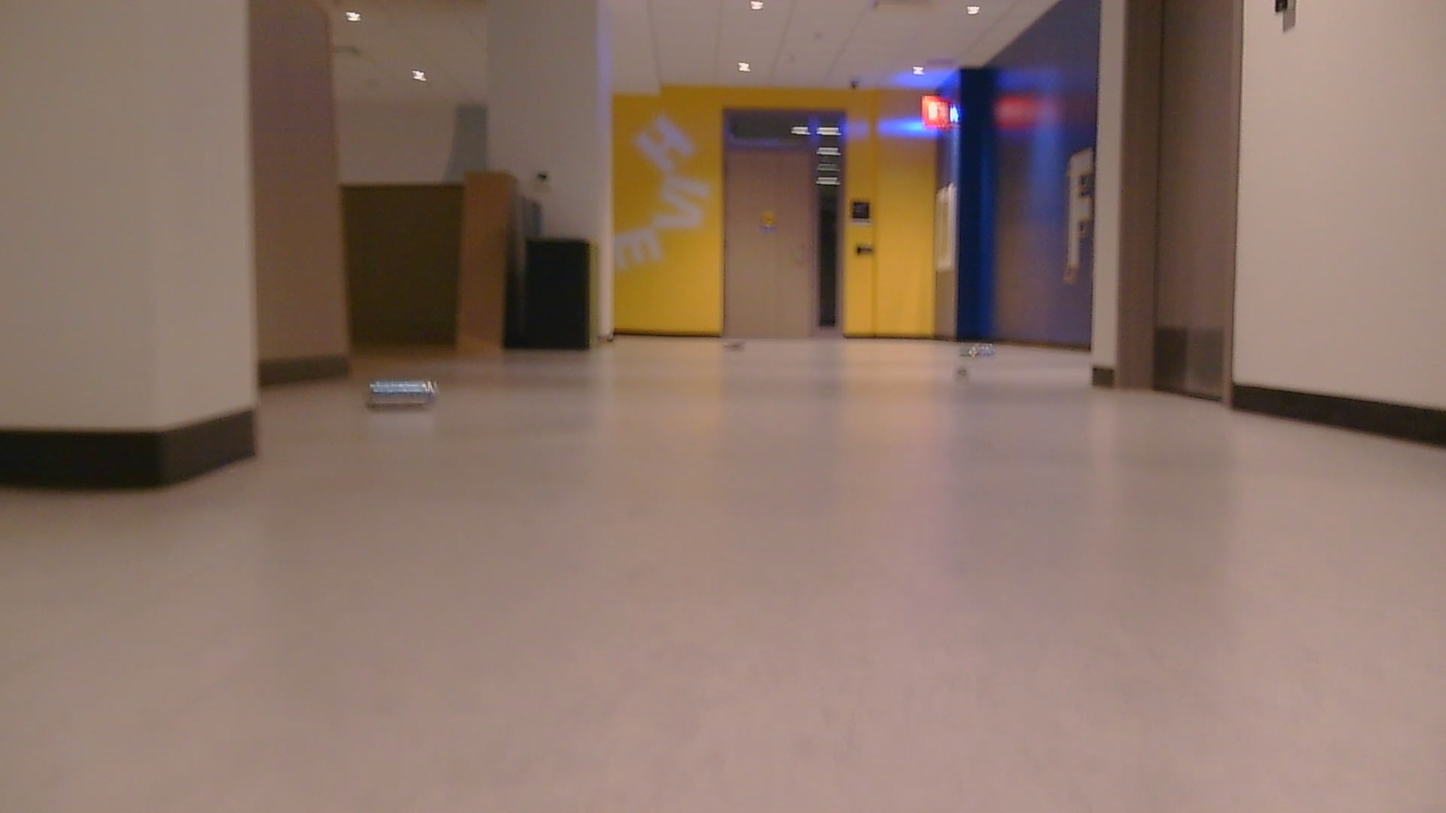can: (393, 397, 394, 398)
carton: (357, 376, 443, 410), (956, 340, 999, 357), (722, 337, 755, 351), (948, 366, 972, 375)
